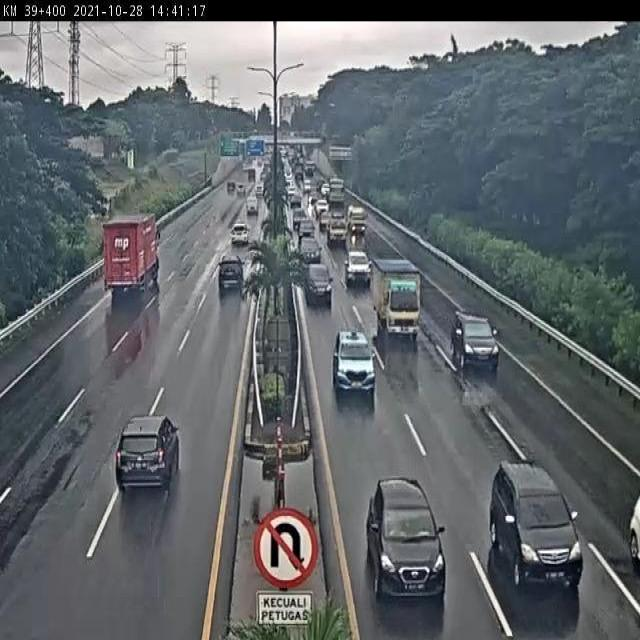car: (489, 460, 583, 589), (365, 478, 447, 606), (114, 416, 181, 493), (451, 309, 500, 371), (332, 329, 377, 395), (304, 263, 333, 305), (344, 250, 372, 290), (217, 255, 244, 289), (298, 237, 320, 264), (230, 223, 250, 244)
mid truck: (103, 212, 159, 292)
truck-m-: (371, 258, 422, 338)
